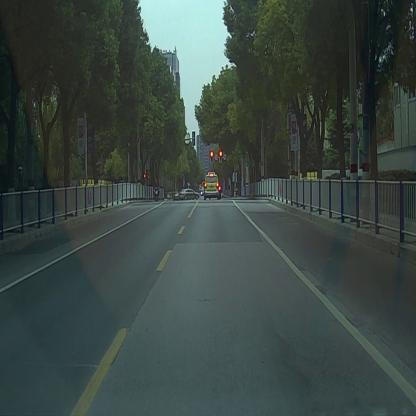Red Light: (218, 148, 223, 162), (210, 148, 214, 162)
